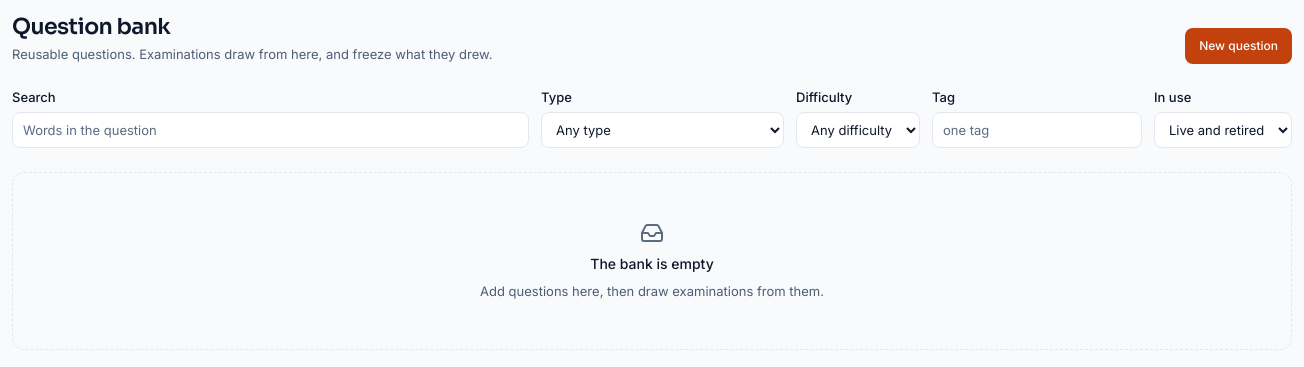
Test: the question bank › distinguishes "nothing matches" from "the bank is empty"
Check: the text "The bank is empty" is shown, box [590,254,714,274]
Select "Hard" in the dropdown labelled "Difficulty" at (858, 130), box [796,112,920,148]
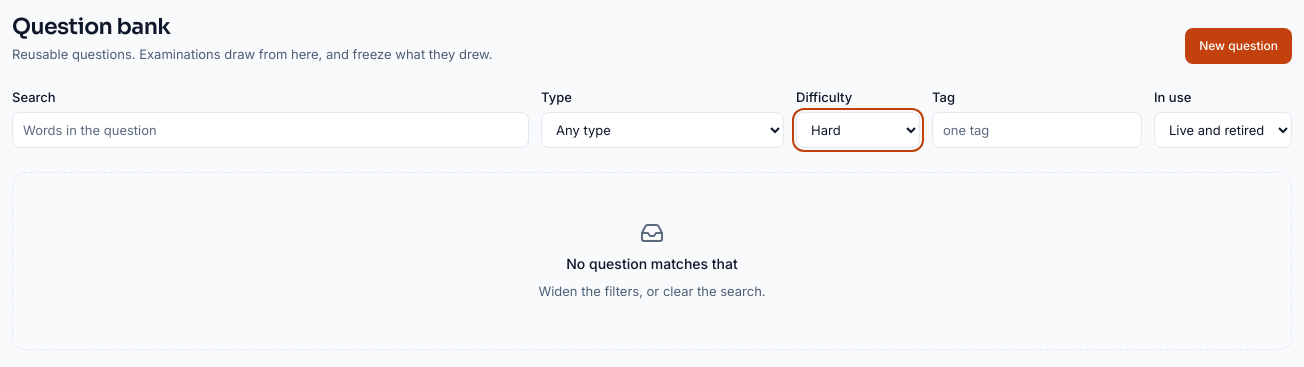
Check: the text "No question matches that" is shown, box [566,254,738,274]
